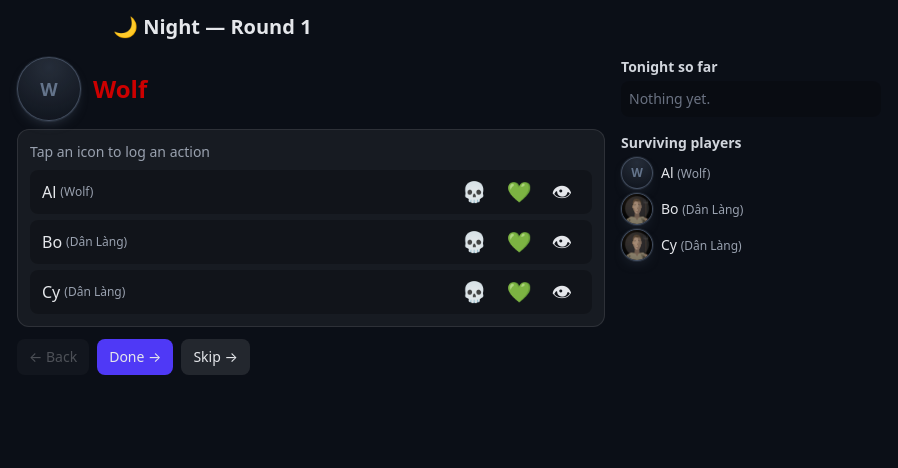
Test: Night › shows only game-night roles and advances to summary
This screenshot has width=898, height=468.
Check: the heading "Wolf" is shown, box [93, 73, 147, 105]
Click the button "Done →". click: (135, 357)
box: [97, 339, 174, 375]
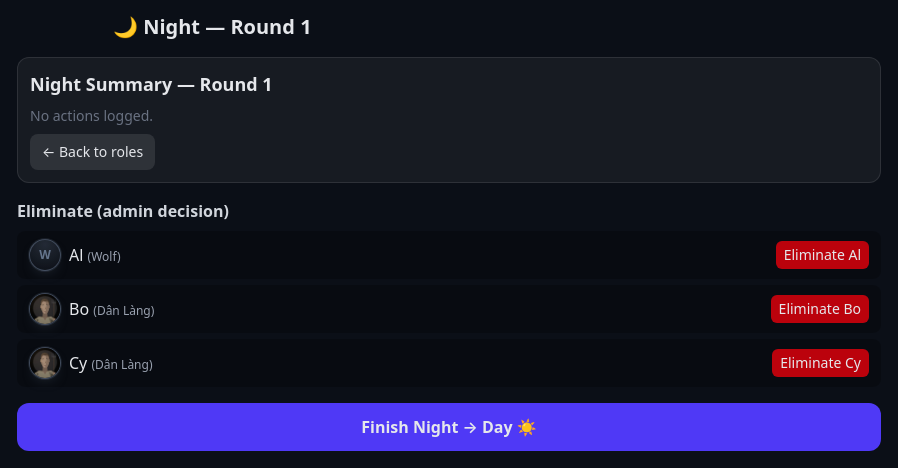
Check: the heading "Night Summary — Round 1" is shown, box [30, 72, 273, 96]
